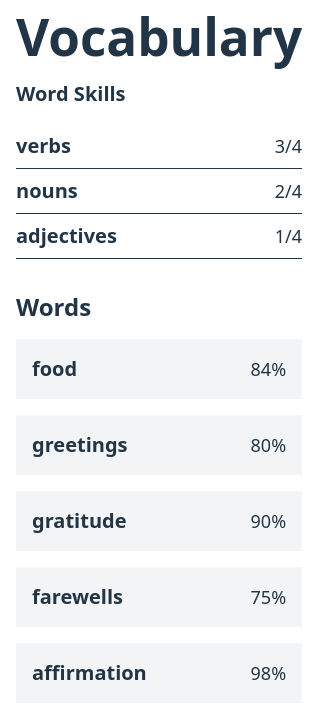
Vocabulary Page › Authenticated user › Happy Path › expands a category to show correctly sorted words
Click the element with test id "word-category" showing "food 84%" at (159, 369), box [16,339,302,399]
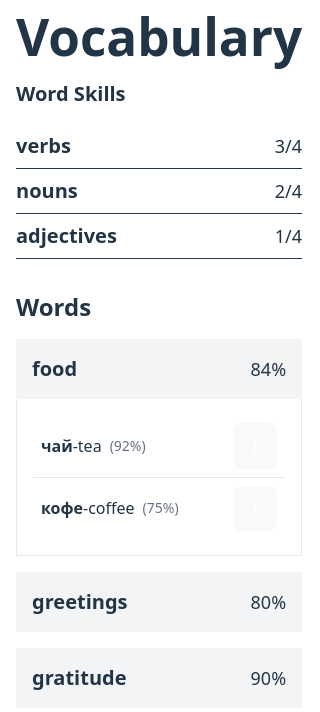
Result: the number of elements with test id "word-item" is 2 at [33,415,285,478]; [33,478,285,539]
Result: the text with test id "word-ru" reads "чай" at [41,434,73,458]
Result: the text with test id "word-ru" reads "кофе" at [41,496,83,520]
